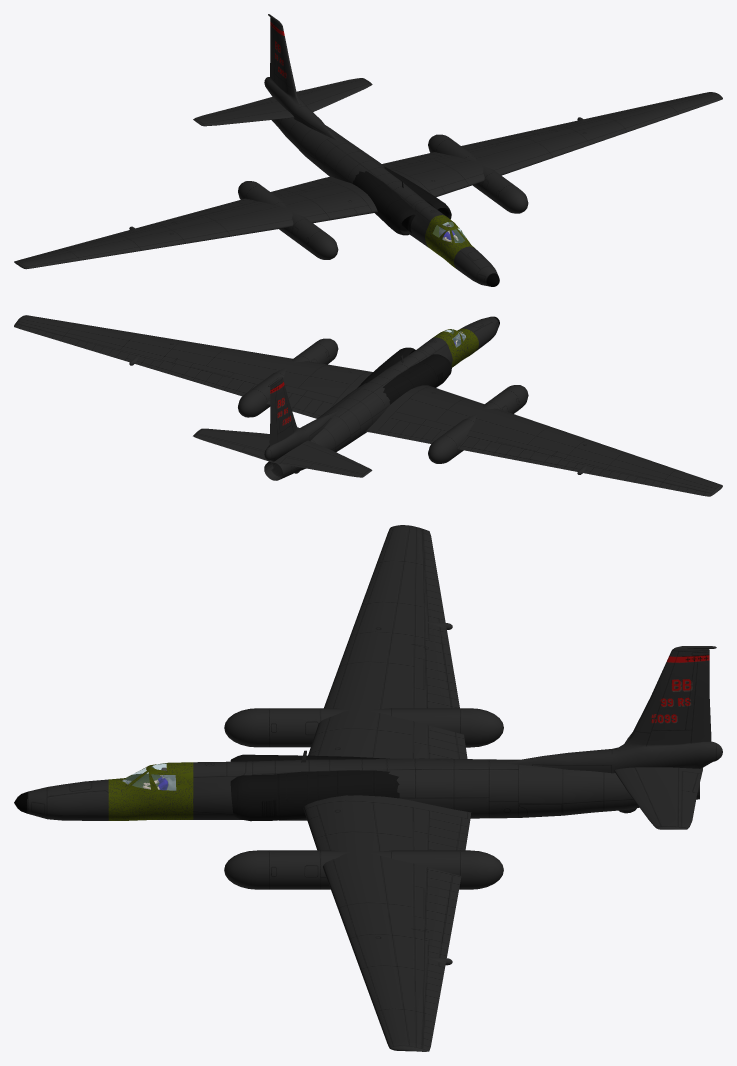
Rendered from elite_recon_u2.glb.
3 views of the same model, one above another, from view 1: azimuth 30°, elevation 25°; view 2: azimuth 150°, elevation 25°; view 3: azimuth 270°, elevation 25° (orthographic). The views are drawn at different scales.
Visible parts, largest first — view 1: KR_LEV01-FACES, KR_LEV-FACES, FUZEL-FACES, KIL-FACES, BAK_LEV01-FACES, BAK_LEV-FACES, VZ_LEV01-FACES, GOR_LEV01-FACES, GOR_LEV-FACES, kabina01-FACES, VZ_LEV-FACES; view 2: KR_LEV01-FACES, KR_LEV-FACES, FUZEL-FACES, KIL-FACES, BAK_LEV01-FACES, GOR_LEV01-FACES, BAK_LEV-FACES, VZ_LEV01-FACES, GOR_LEV-FACES, kabina01-FACES, VZ_LEV-FACES; view 3: KR_LEV-FACES, KR_LEV01-FACES, FUZEL-FACES, KIL-FACES, BAK_LEV-FACES, BAK_LEV01-FACES, VZ_LEV-FACES, kabina01-FACES, GOR_LEV-FACES.
Boxes of the visible parts, x1,y1,x2,y2 form: KR_LEV01-FACES: (14,176,377,269); KR_LEV-FACES: (382,92,722,197); FUZEL-FACES: (271,118,499,286); KIL-FACES: (264,14,337,140); BAK_LEV01-FACES: (238,181,338,259); BAK_LEV-FACES: (428,134,528,213); VZ_LEV01-FACES: (353,171,415,235); GOR_LEV01-FACES: (193,97,294,126); GOR_LEV-FACES: (296,78,372,111); kabina01-FACES: (425,215,474,268); VZ_LEV-FACES: (384,166,451,219); KR_LEV01-FACES: (365,385,722,496); KR_LEV-FACES: (14,315,372,418); FUZEL-FACES: (264,316,499,480); KIL-FACES: (264,377,337,461); BAK_LEV01-FACES: (428,385,528,463); GOR_LEV01-FACES: (273,440,372,477); BAK_LEV-FACES: (238,338,338,417); VZ_LEV01-FACES: (383,354,451,404); GOR_LEV-FACES: (193,428,272,462); kabina01-FACES: (433,328,478,367); VZ_LEV-FACES: (357,347,415,387); KR_LEV-FACES: (303,795,471,1051); KR_LEV01-FACES: (308,525,467,758); FUZEL-FACES: (14,758,699,820); KIL-FACES: (503,646,722,773); BAK_LEV-FACES: (224,850,503,889); BAK_LEV01-FACES: (224,708,503,747); VZ_LEV-FACES: (230,770,399,821); kabina01-FACES: (108,762,193,820); GOR_LEV-FACES: (614,767,702,829).
Size of the model in its own units: 31.11 by 4.78 by 17.79.
54 materials, 12 textured.
